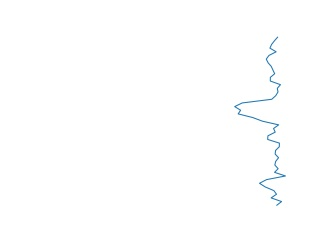interdistributaryEstuary: (228, 36, 293, 206)
